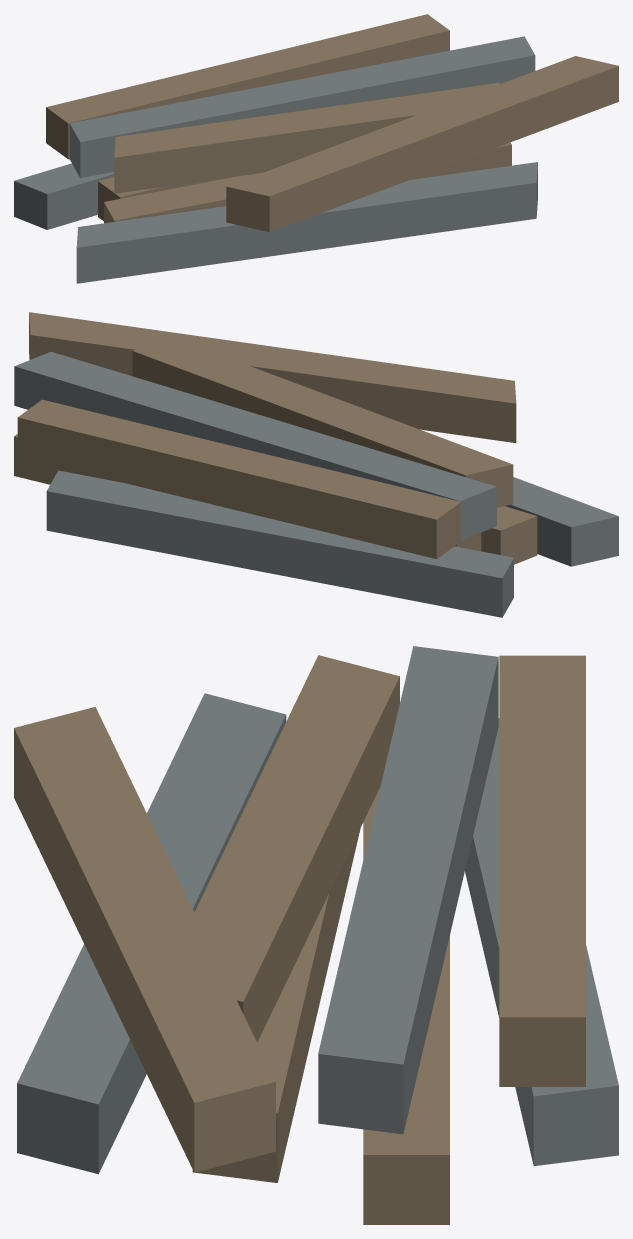
File: rubbish_pile.glb
The picture shows the model from 3 angles, top to bottom: view 1: azimuth 30°, elevation 25°; view 2: azimuth 150°, elevation 25°; view 3: azimuth 270°, elevation 25°; orthographic projection. The views are drawn at different scales.
Parts seen in each view (by area): view 1: rubbish_pile; view 2: rubbish_pile; view 3: rubbish_pile.
Part boxes in pixels (bbox=[...]): rubbish_pile: bbox=[14, 14, 618, 283]; rubbish_pile: bbox=[14, 312, 618, 617]; rubbish_pile: bbox=[14, 646, 618, 1224].
Size of the model in its own units: 1.92 by 0.3 by 0.96.
